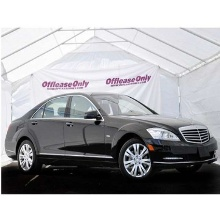no damage: (4, 92, 218, 181)
